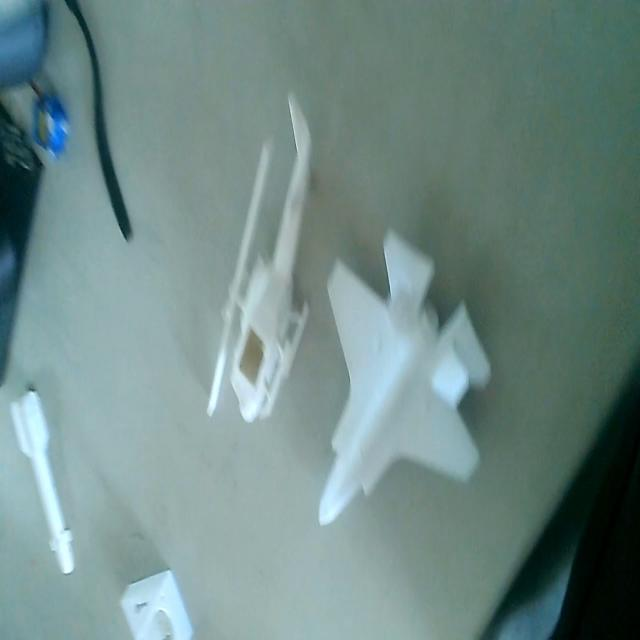Helicopter: (207, 91, 315, 438)
Jet: (318, 240, 492, 538)
Rocket: (6, 384, 78, 580)
